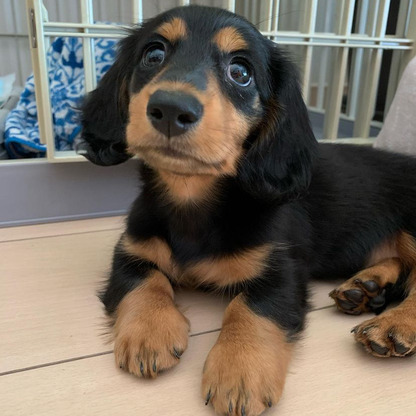dachshund: (73, 8, 381, 350)
